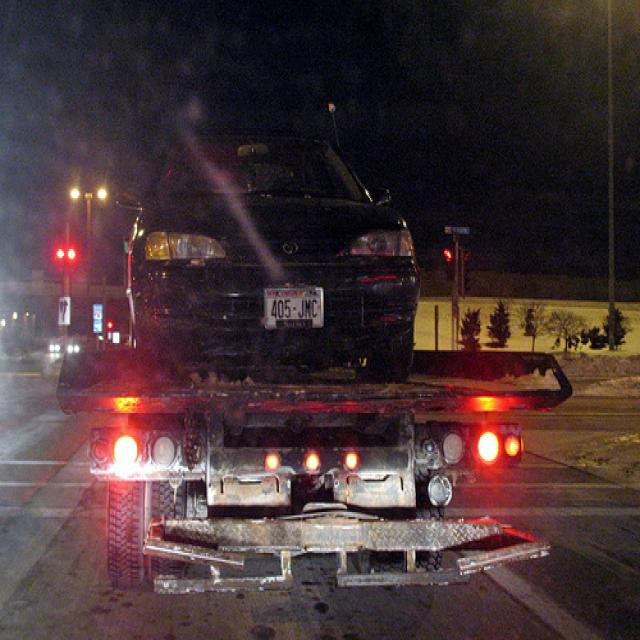Car: (123, 129, 422, 378)
